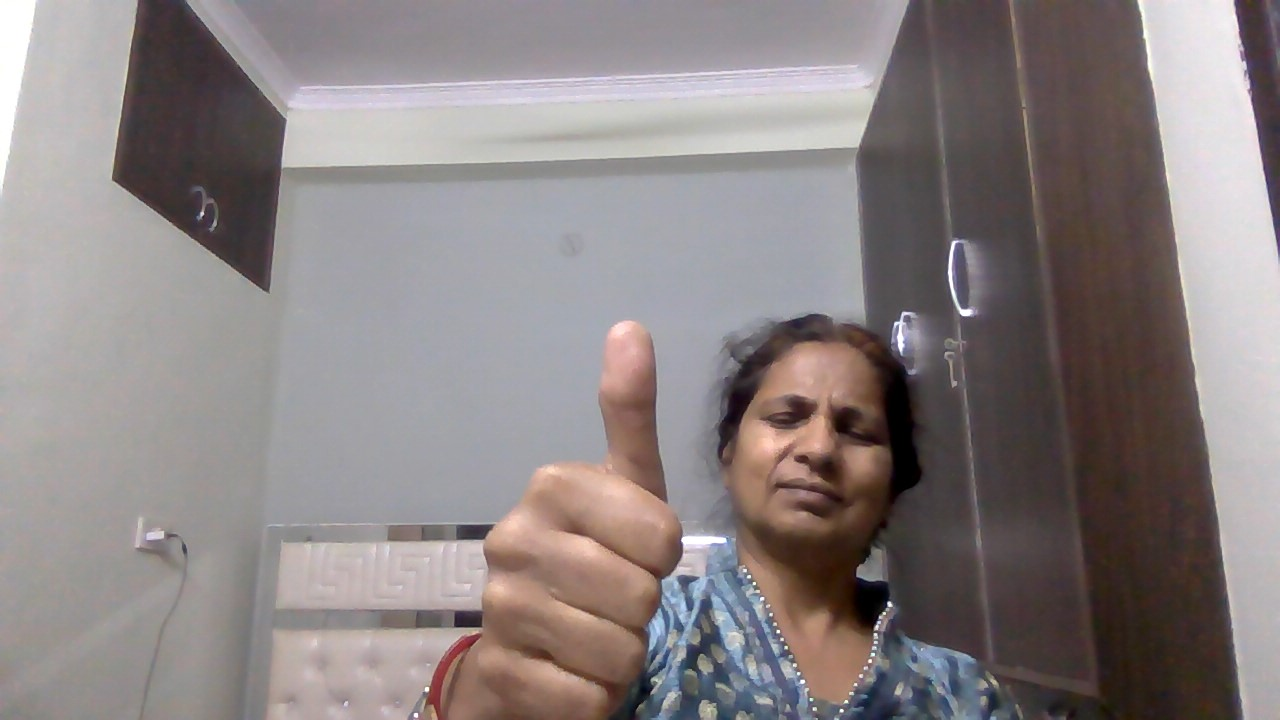Save: (451, 310, 728, 720)
